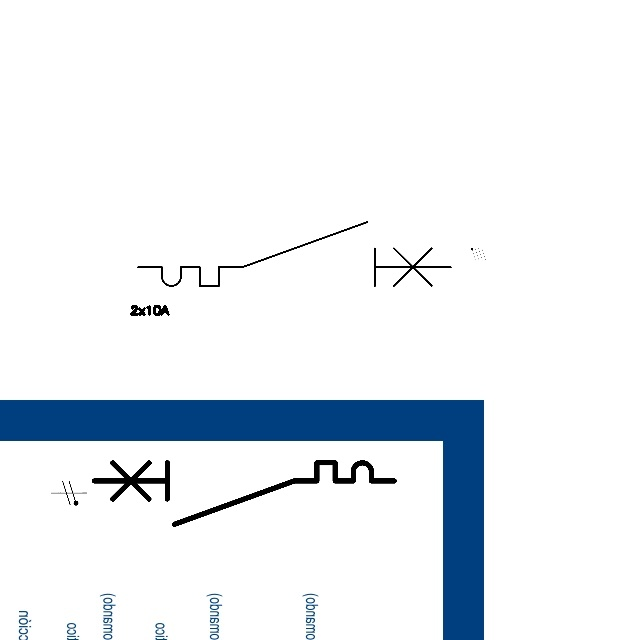interruptor_termomagnetico: (130, 214, 459, 294), (86, 455, 401, 532)
